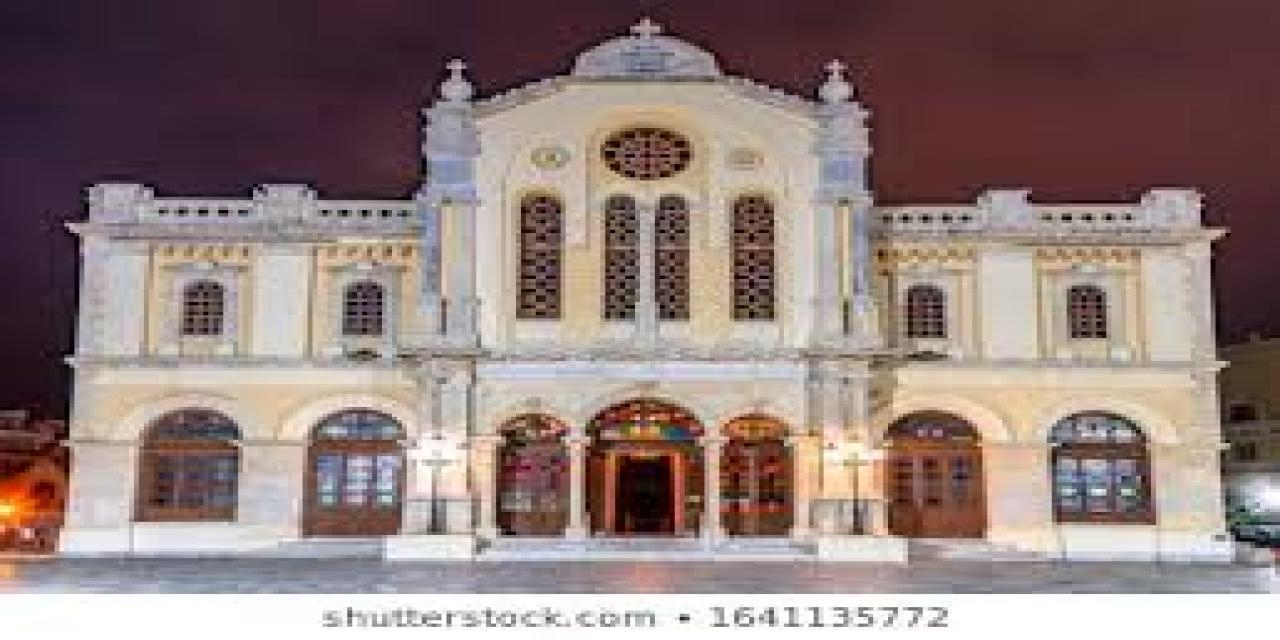Agios Minas: (52, 17, 1240, 570)
